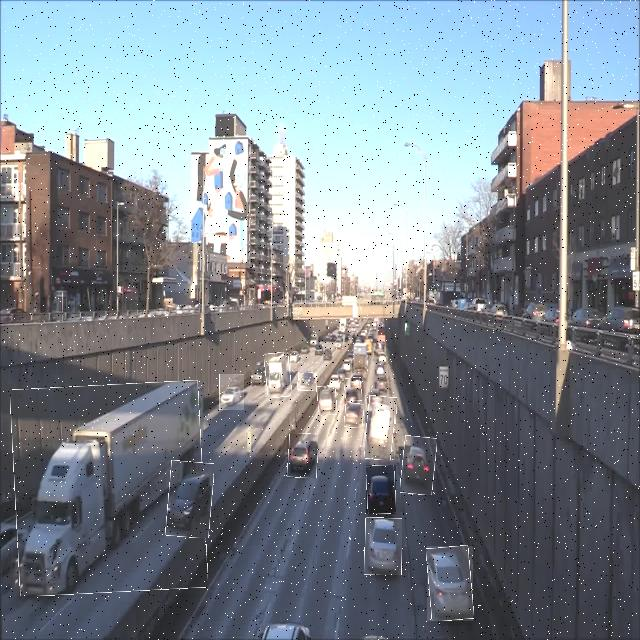Car: (166, 461, 212, 538), (427, 546, 473, 621), (365, 518, 402, 575), (402, 436, 436, 495), (366, 465, 396, 514), (287, 434, 318, 478), (219, 374, 244, 410), (317, 386, 337, 415), (345, 404, 364, 428), (344, 378, 362, 401), (298, 373, 317, 391)
Truck: (12, 383, 206, 594), (366, 395, 396, 460), (265, 353, 291, 397)
